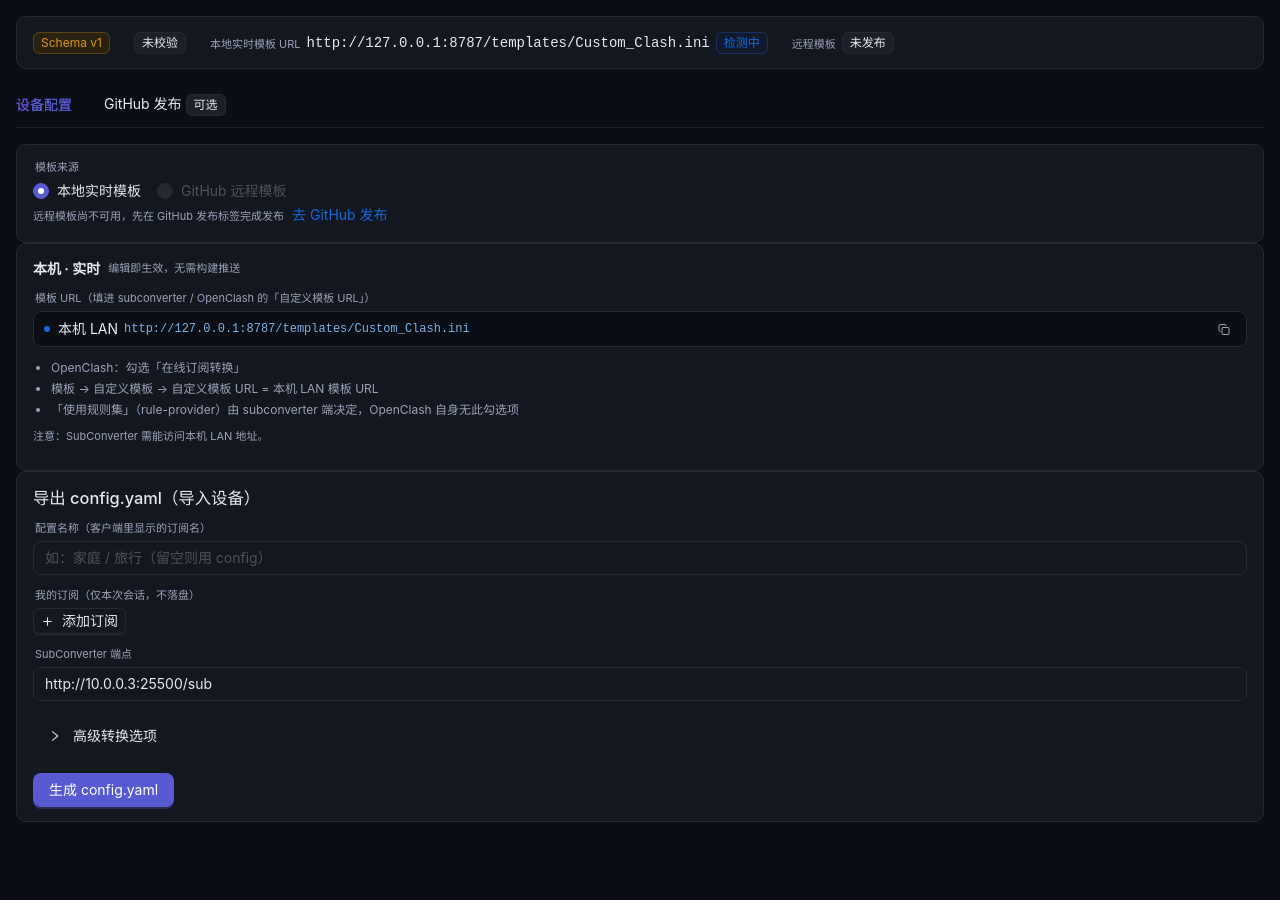
keeps the ini diff preview in the github tab instead of the device-config tab
The image size is (1280, 900).
Click the tab "GitHub 发布 可选". click: (169, 104)
box: x1=104 y1=93 x2=234 y2=116
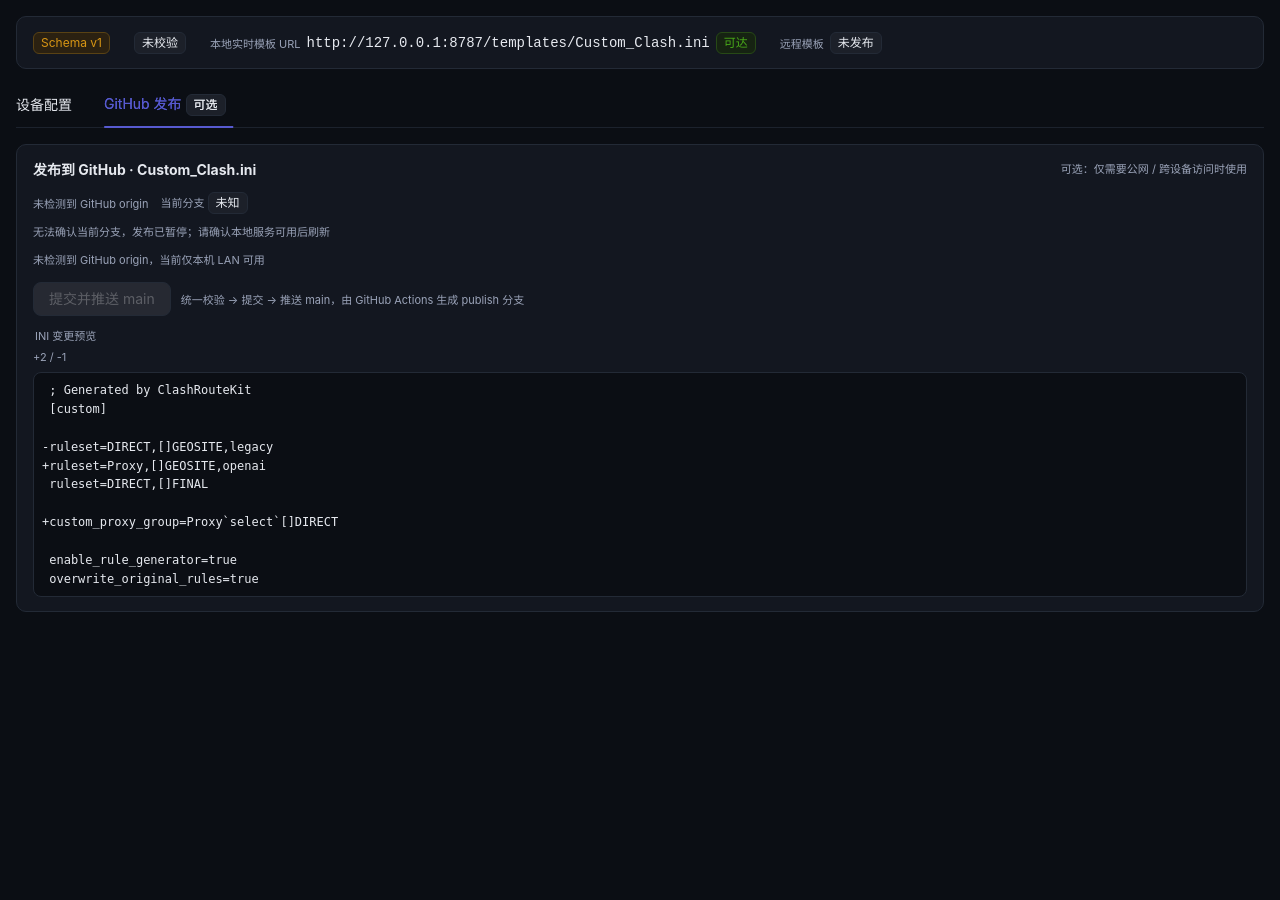
Check: the text with test id "publish-ini-preview" shows "[custom]", box x1=42 y1=383 x2=338 y2=586
